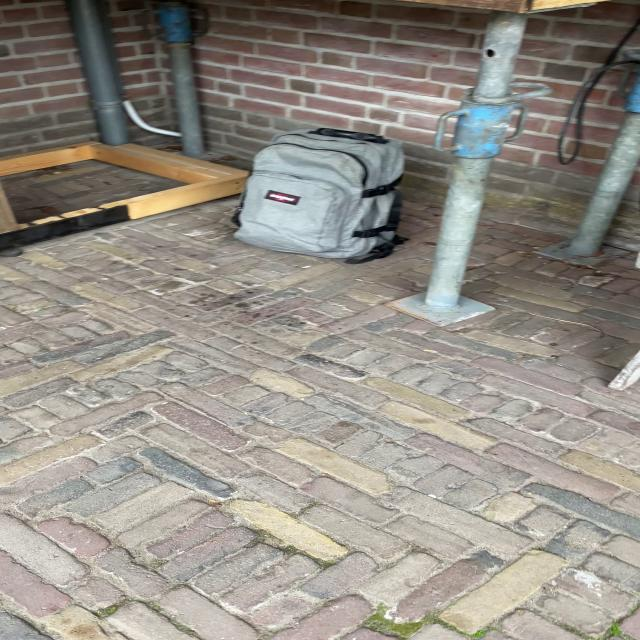backpack: (224, 121, 415, 264)
